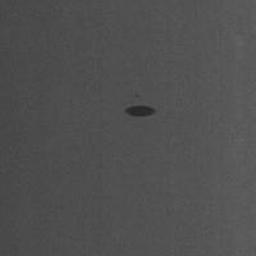Oil spot: (125, 106, 156, 117)
